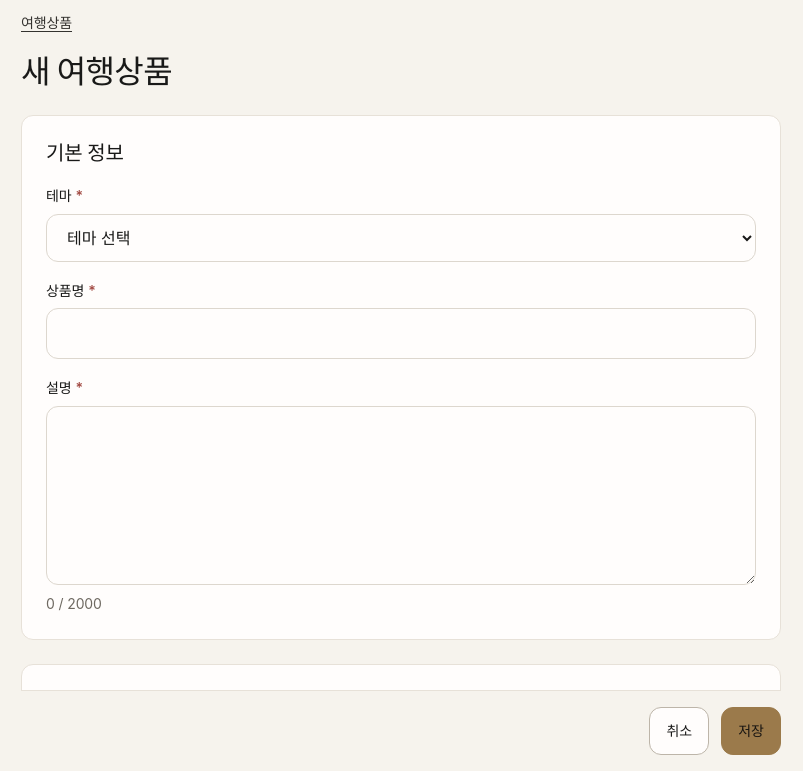
Test: E03 product create › blocks an incomplete submit with a focused error summary and no request
Click the button "저장".
click(751, 731)  # box x1=721 y1=707 x2=781 y2=755
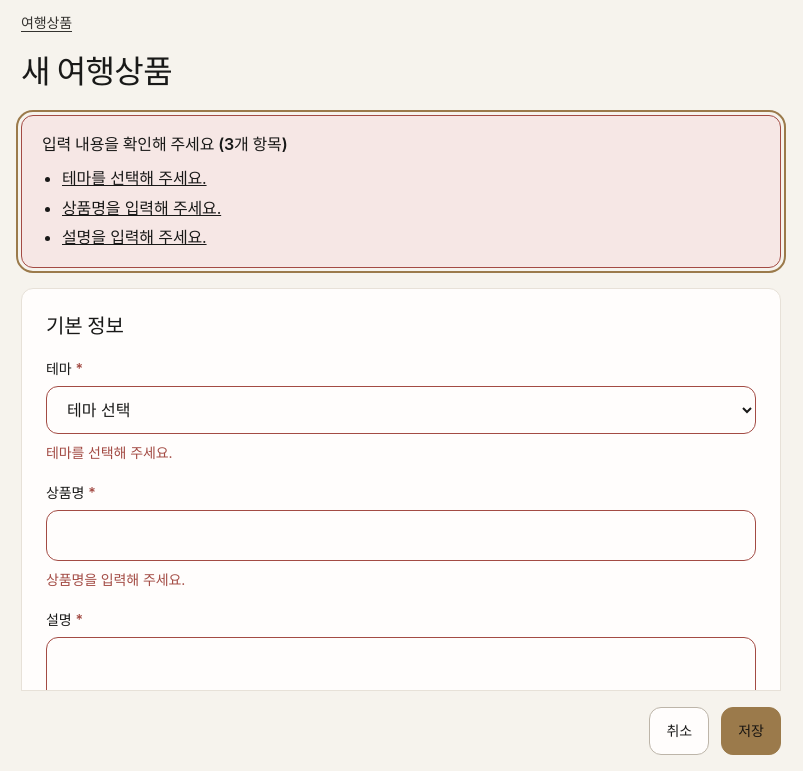
Check: the message shows "입력 내용을 확인해 주세요 (3개 항목)", box x1=21 y1=115 x2=781 y2=268
